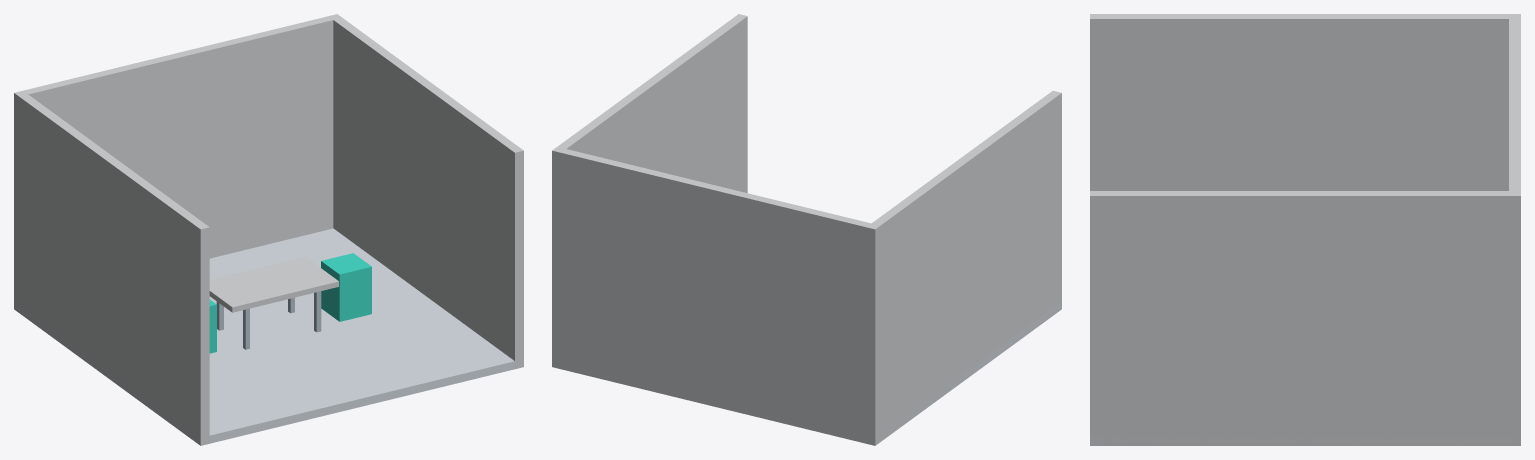
3 renders of one model, left to right at view 1: azimuth 30°, elevation 25°; view 2: azimuth 150°, elevation 25°; view 3: azimuth 270°, elevation 25°, orthographic. The views are drawn at different scales.
Visible parts, largest first — view 1: Exhibition Booth Concept; view 2: Exhibition Booth Concept; view 3: Exhibition Booth Concept.
Part boxes in pixels (bbox=[...]): Exhibition Booth Concept: bbox=[14, 14, 523, 445]; Exhibition Booth Concept: bbox=[552, 14, 1061, 445]; Exhibition Booth Concept: bbox=[1090, 14, 1520, 445].
Size of the model in its own units: 5 by 3.2 by 5.
